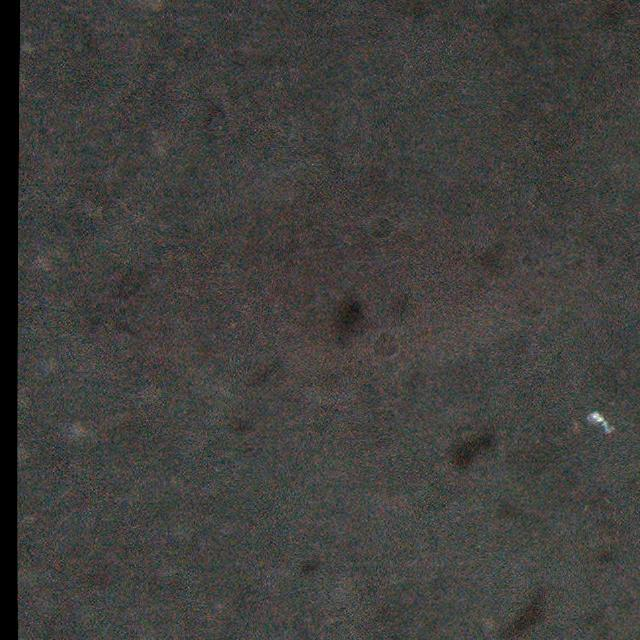flatfish: (93, 166, 598, 406)
